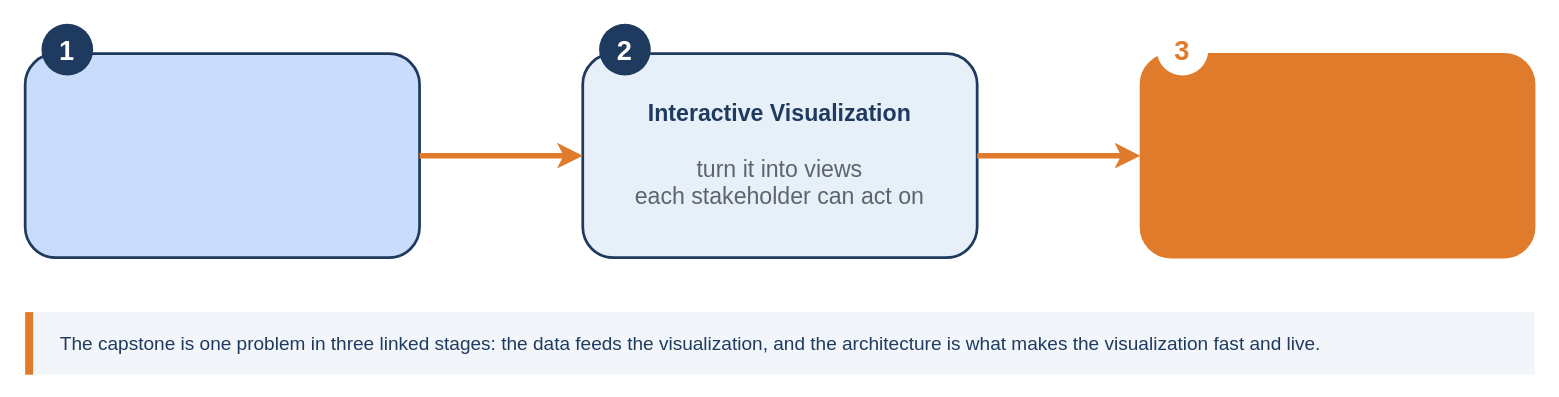
The diagram is 1559 pixels wide and 397 high, and some of its shapes have lost their labels. Each missing label, with the centre of its shape:
"Bus & Ticket Data explore a dynamic, multi-source record" goes at [221,155].
"Data Architecture & Pipeline serve those views fast and fresh" goes at [1337,155].
